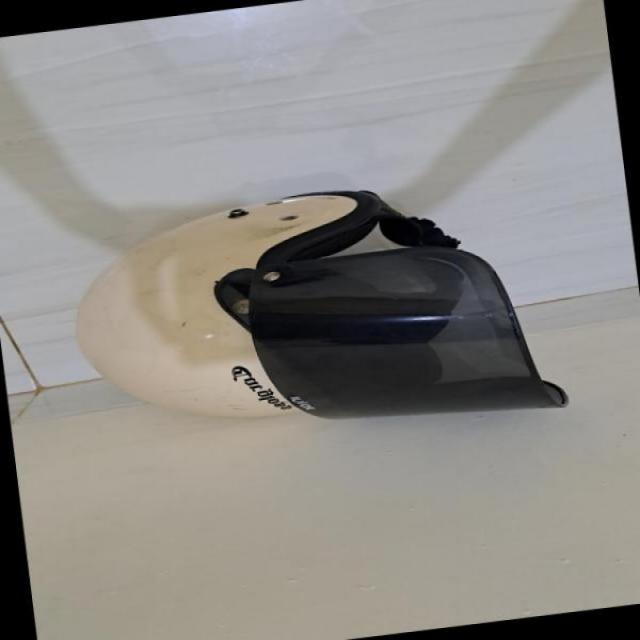Helmet: (73, 164, 602, 417), (78, 164, 580, 412)
